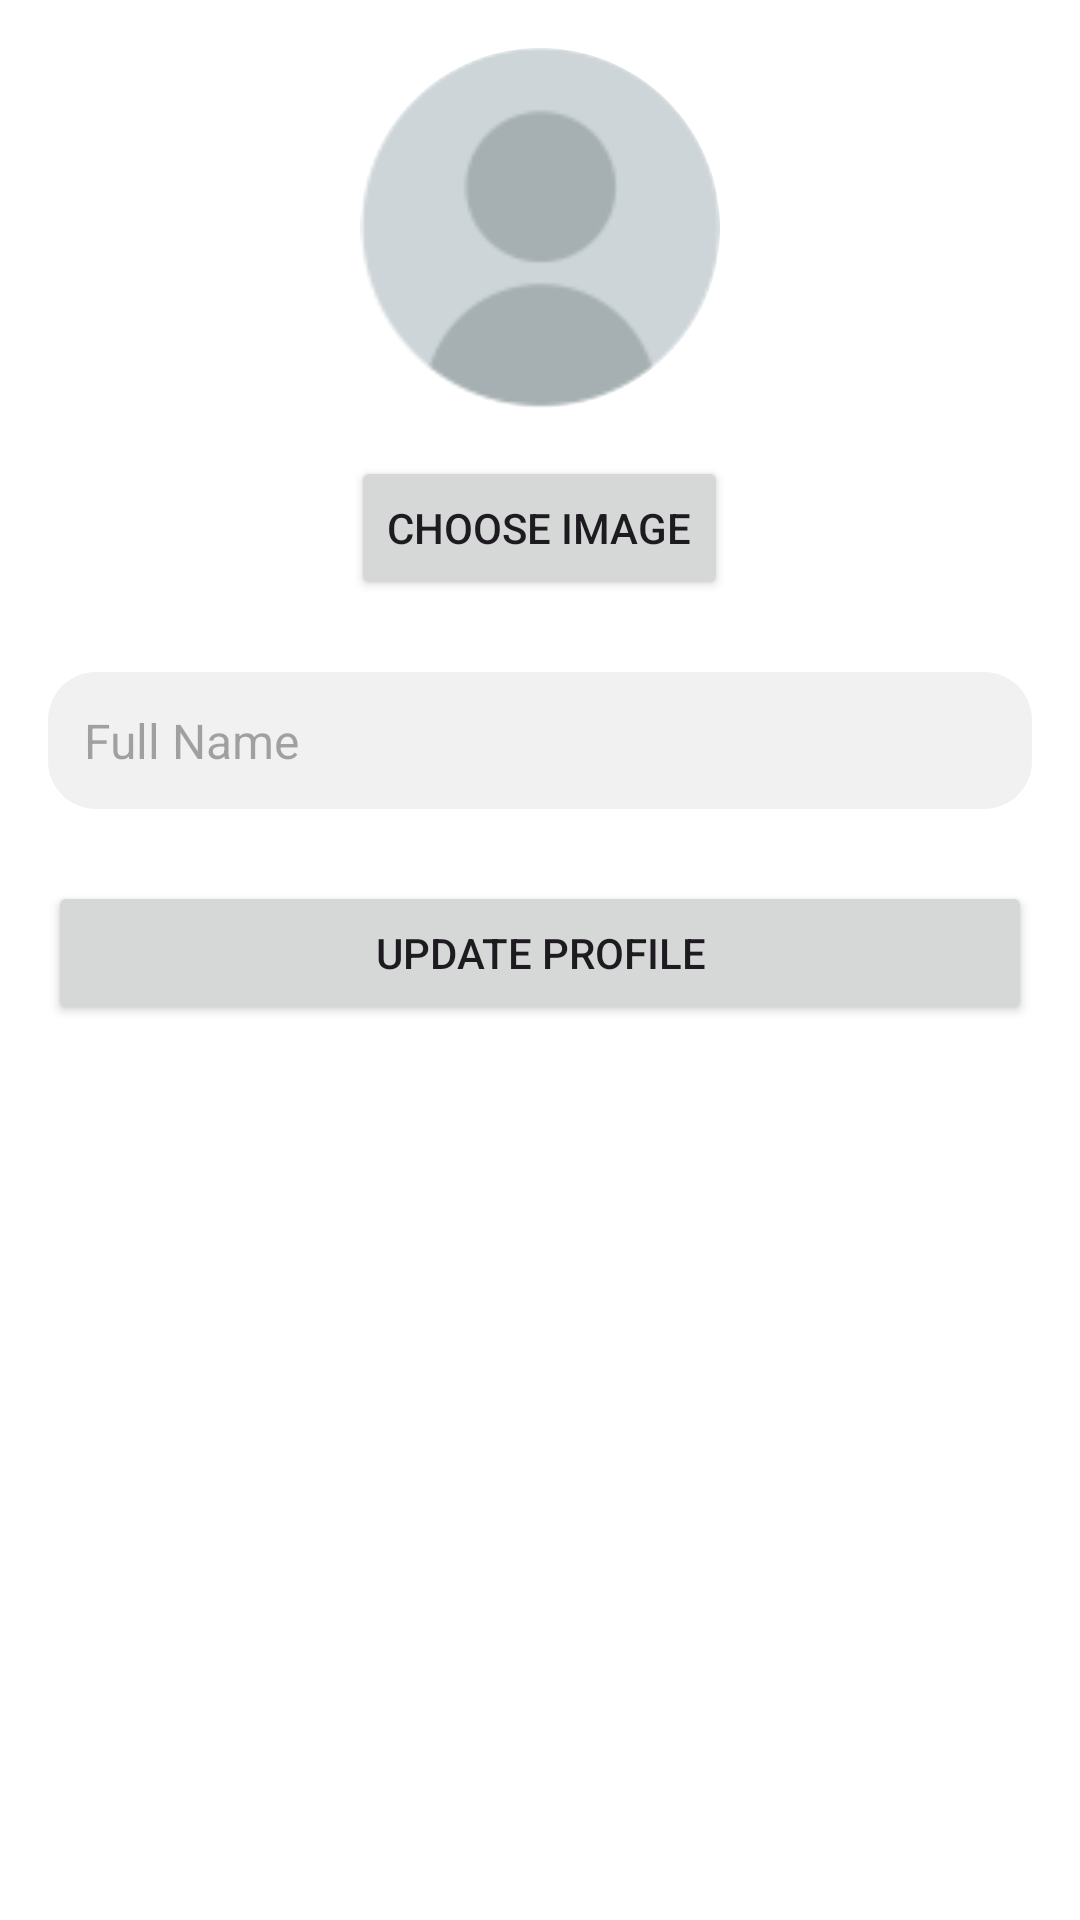

Screen size 1080w x 1920h. Icon name, then its box in pixels as region(x1, y1, x2, y2):
user: region(363, 48, 720, 407)
